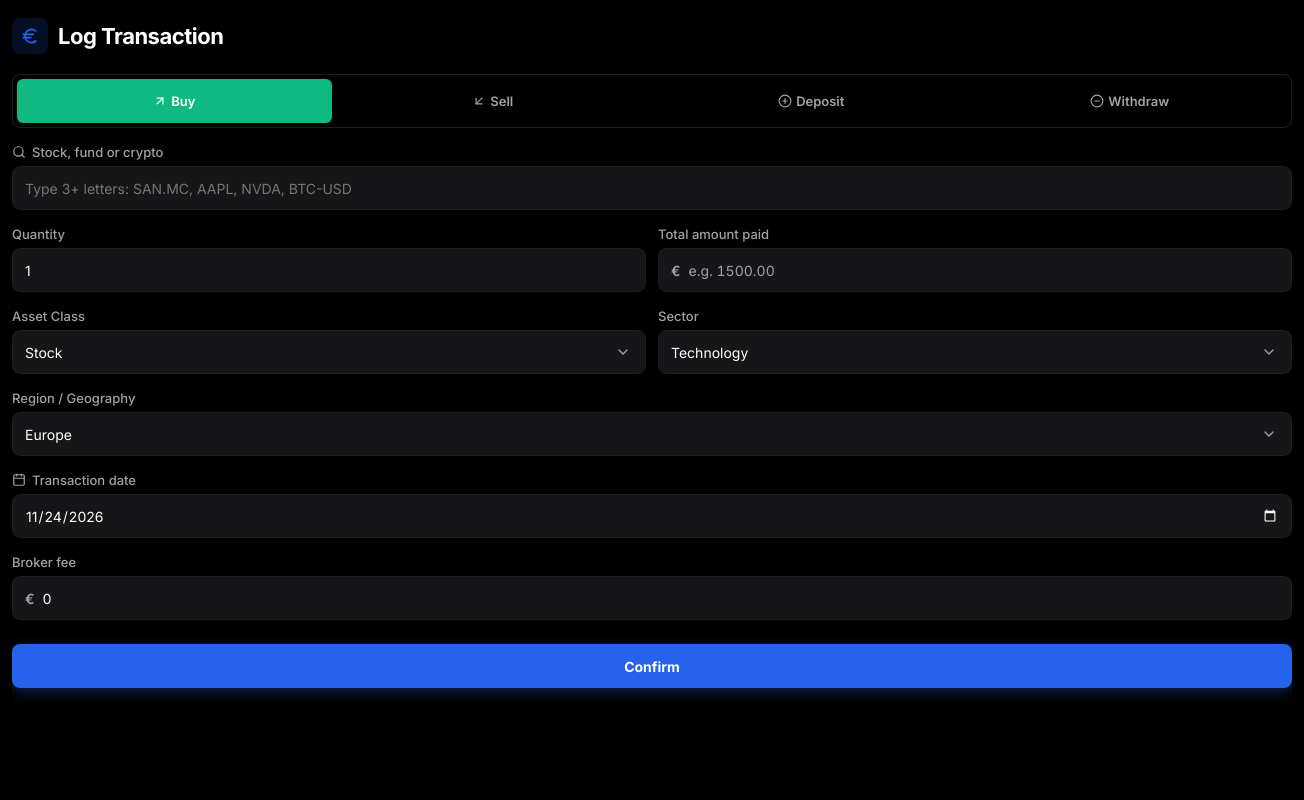
Test: TransactionForm: the Sold tab only sells what is owned › replaces the free ticker search with a list of holdings, each with its available units
Click the button "Sell". click: (493, 101)
box: x1=336 y1=79 x2=650 y2=123
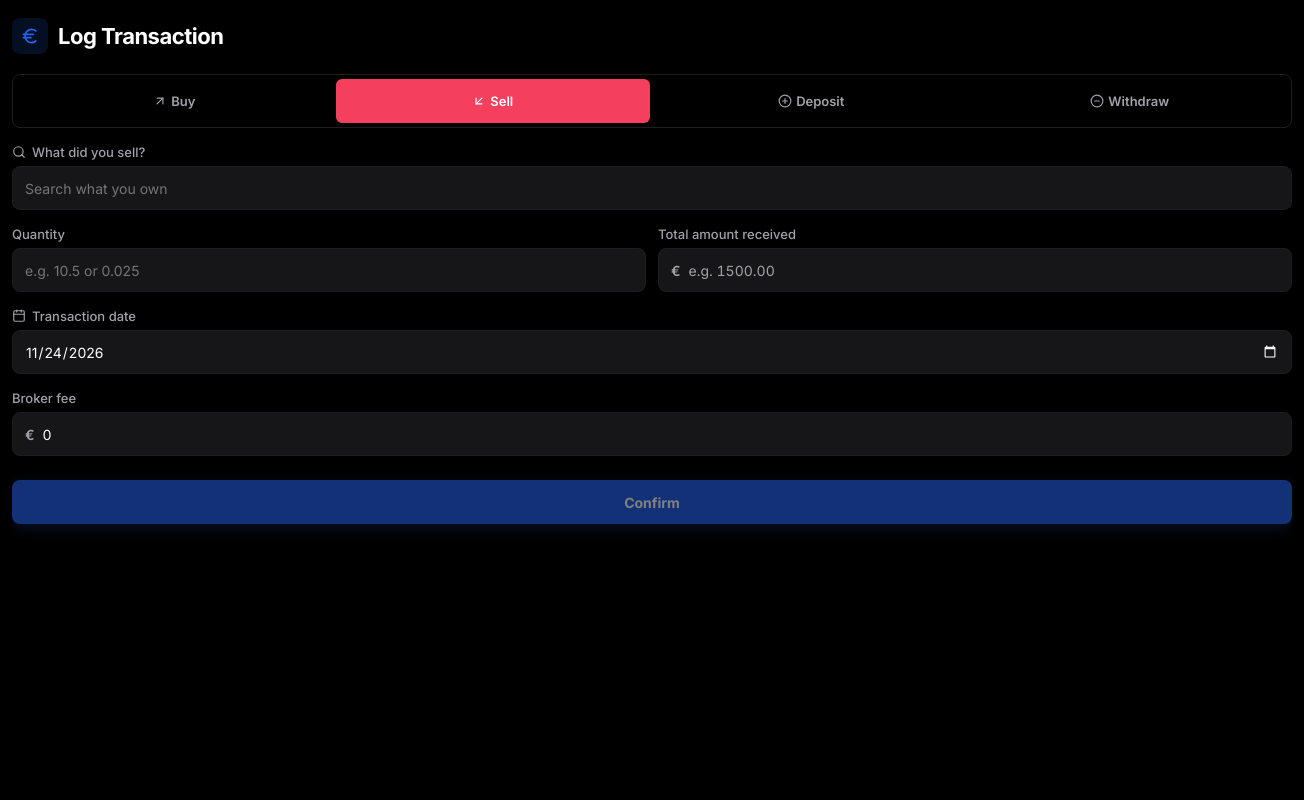
Expected: the field with placeholder "SAN.MC, AAPL, NVDA" is not shown
Focus the dropdown with placeholder "Search what you own". click: (652, 188)
box: x1=12 y1=166 x2=1292 y2=210
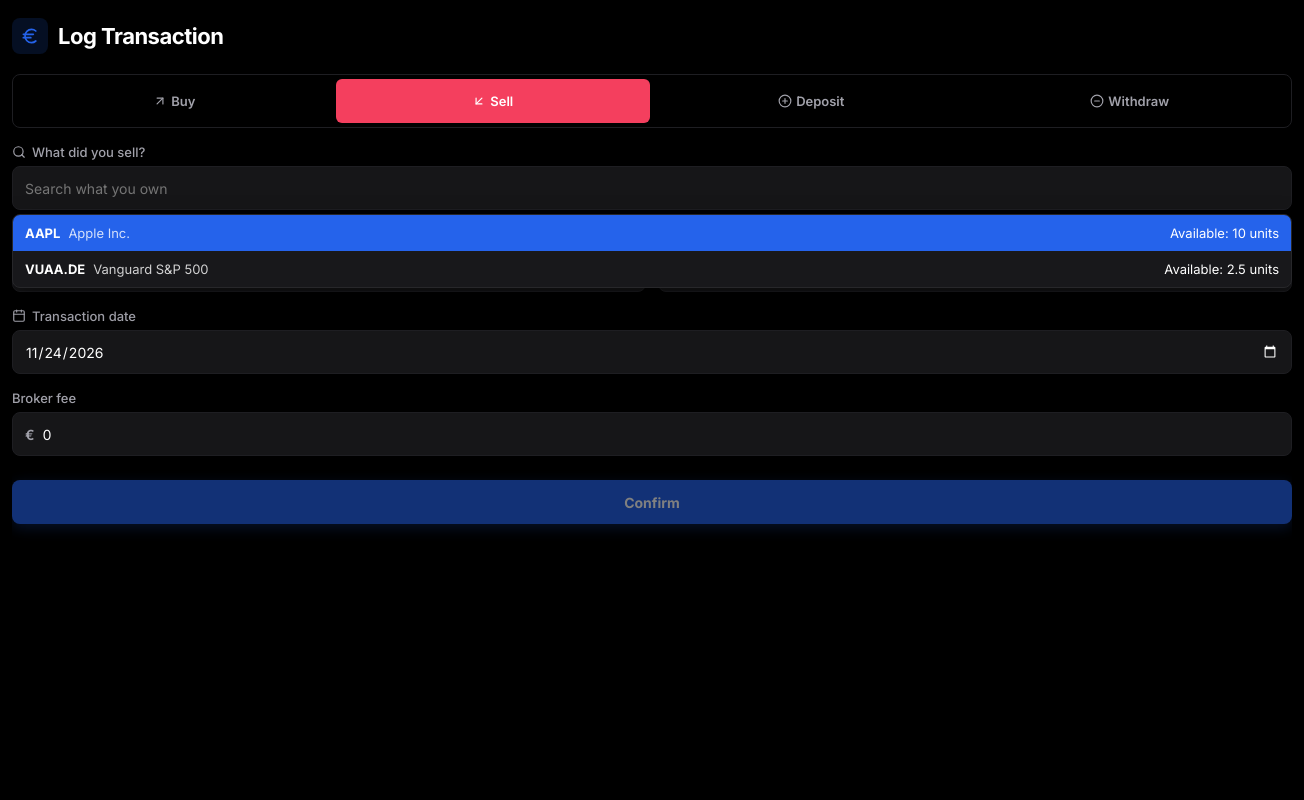
Expected: the option that starts with "AAPL" is shown, x1=13 y1=215 x2=1291 y2=251
Expected: the option that starts with "VUAA.DE" is shown, x1=25 y1=261 x2=1279 y2=277
